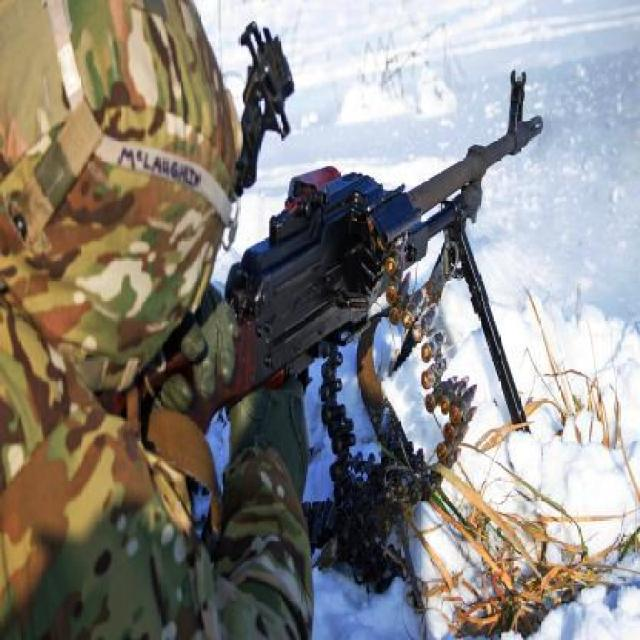weapon: (73, 33, 602, 475)
